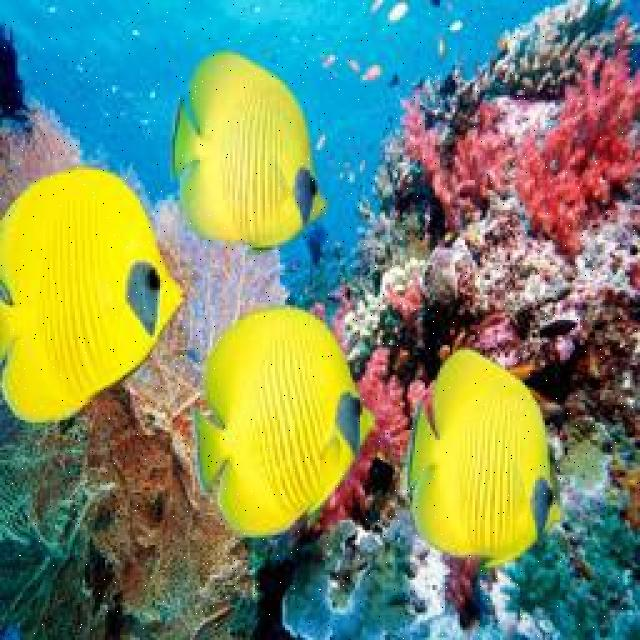fish: (0, 168, 186, 421), (198, 306, 380, 537), (409, 349, 564, 571), (173, 51, 329, 257)
reefs: (280, 1, 638, 638), (2, 100, 289, 509), (84, 382, 252, 619), (0, 391, 119, 635)
